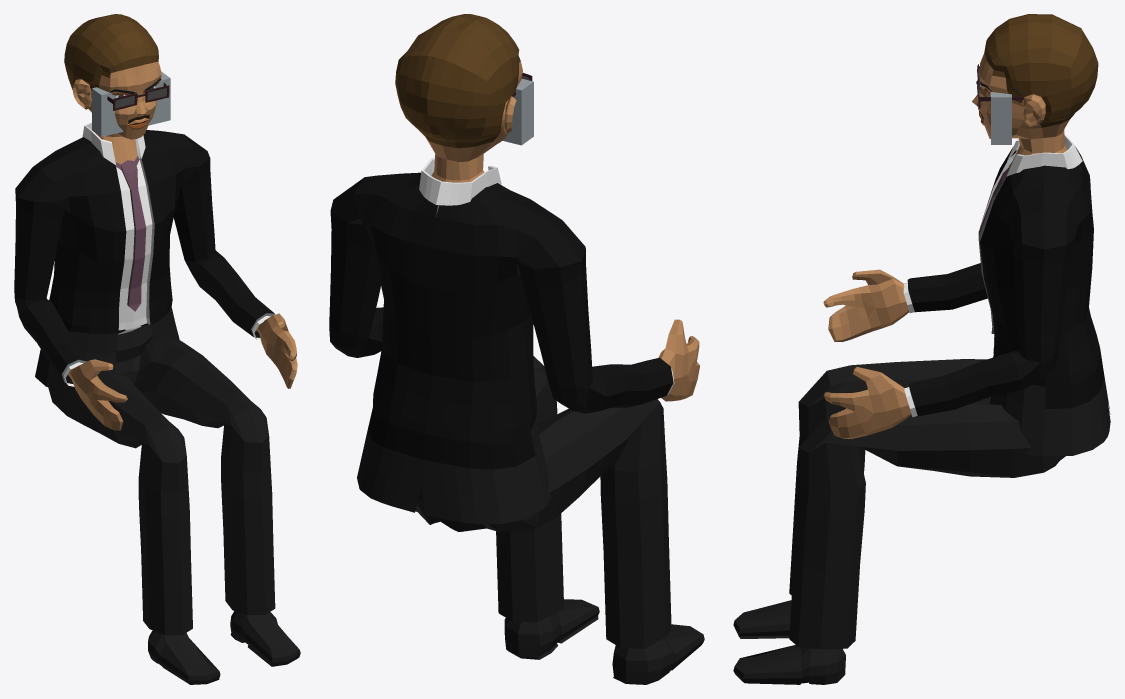
File: TeacherMale_B_Sit_Mask.fbx
The picture shows the model from 3 angles, left to right: view 1: azimuth 30°, elevation 25°; view 2: azimuth 150°, elevation 25°; view 3: azimuth 270°, elevation 25°; orthographic projection. The views are drawn at different scales.
Parts seen in each view (by area): view 1: TeacherMale_B_Sit_Mask; view 2: TeacherMale_B_Sit_Mask; view 3: TeacherMale_B_Sit_Mask.
Boxes of the visible parts, <box> form: TeacherMale_B_Sit_Mask: <box>14,14,300,684</box>; TeacherMale_B_Sit_Mask: <box>329,14,704,684</box>; TeacherMale_B_Sit_Mask: <box>733,14,1110,684</box>.
Bounding box in the file's own units: 0.2953 × 0.7301 × 0.3929.
